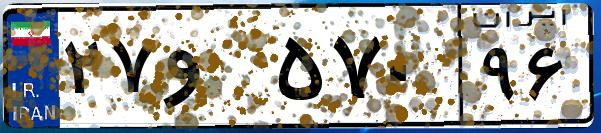0: (385, 28, 445, 110)
2: (57, 26, 110, 100)
5: (270, 28, 330, 110)
6: (525, 38, 570, 115)
7: (330, 28, 385, 110), (110, 28, 158, 98)
9: (475, 38, 525, 113)
و: (158, 20, 270, 120)
